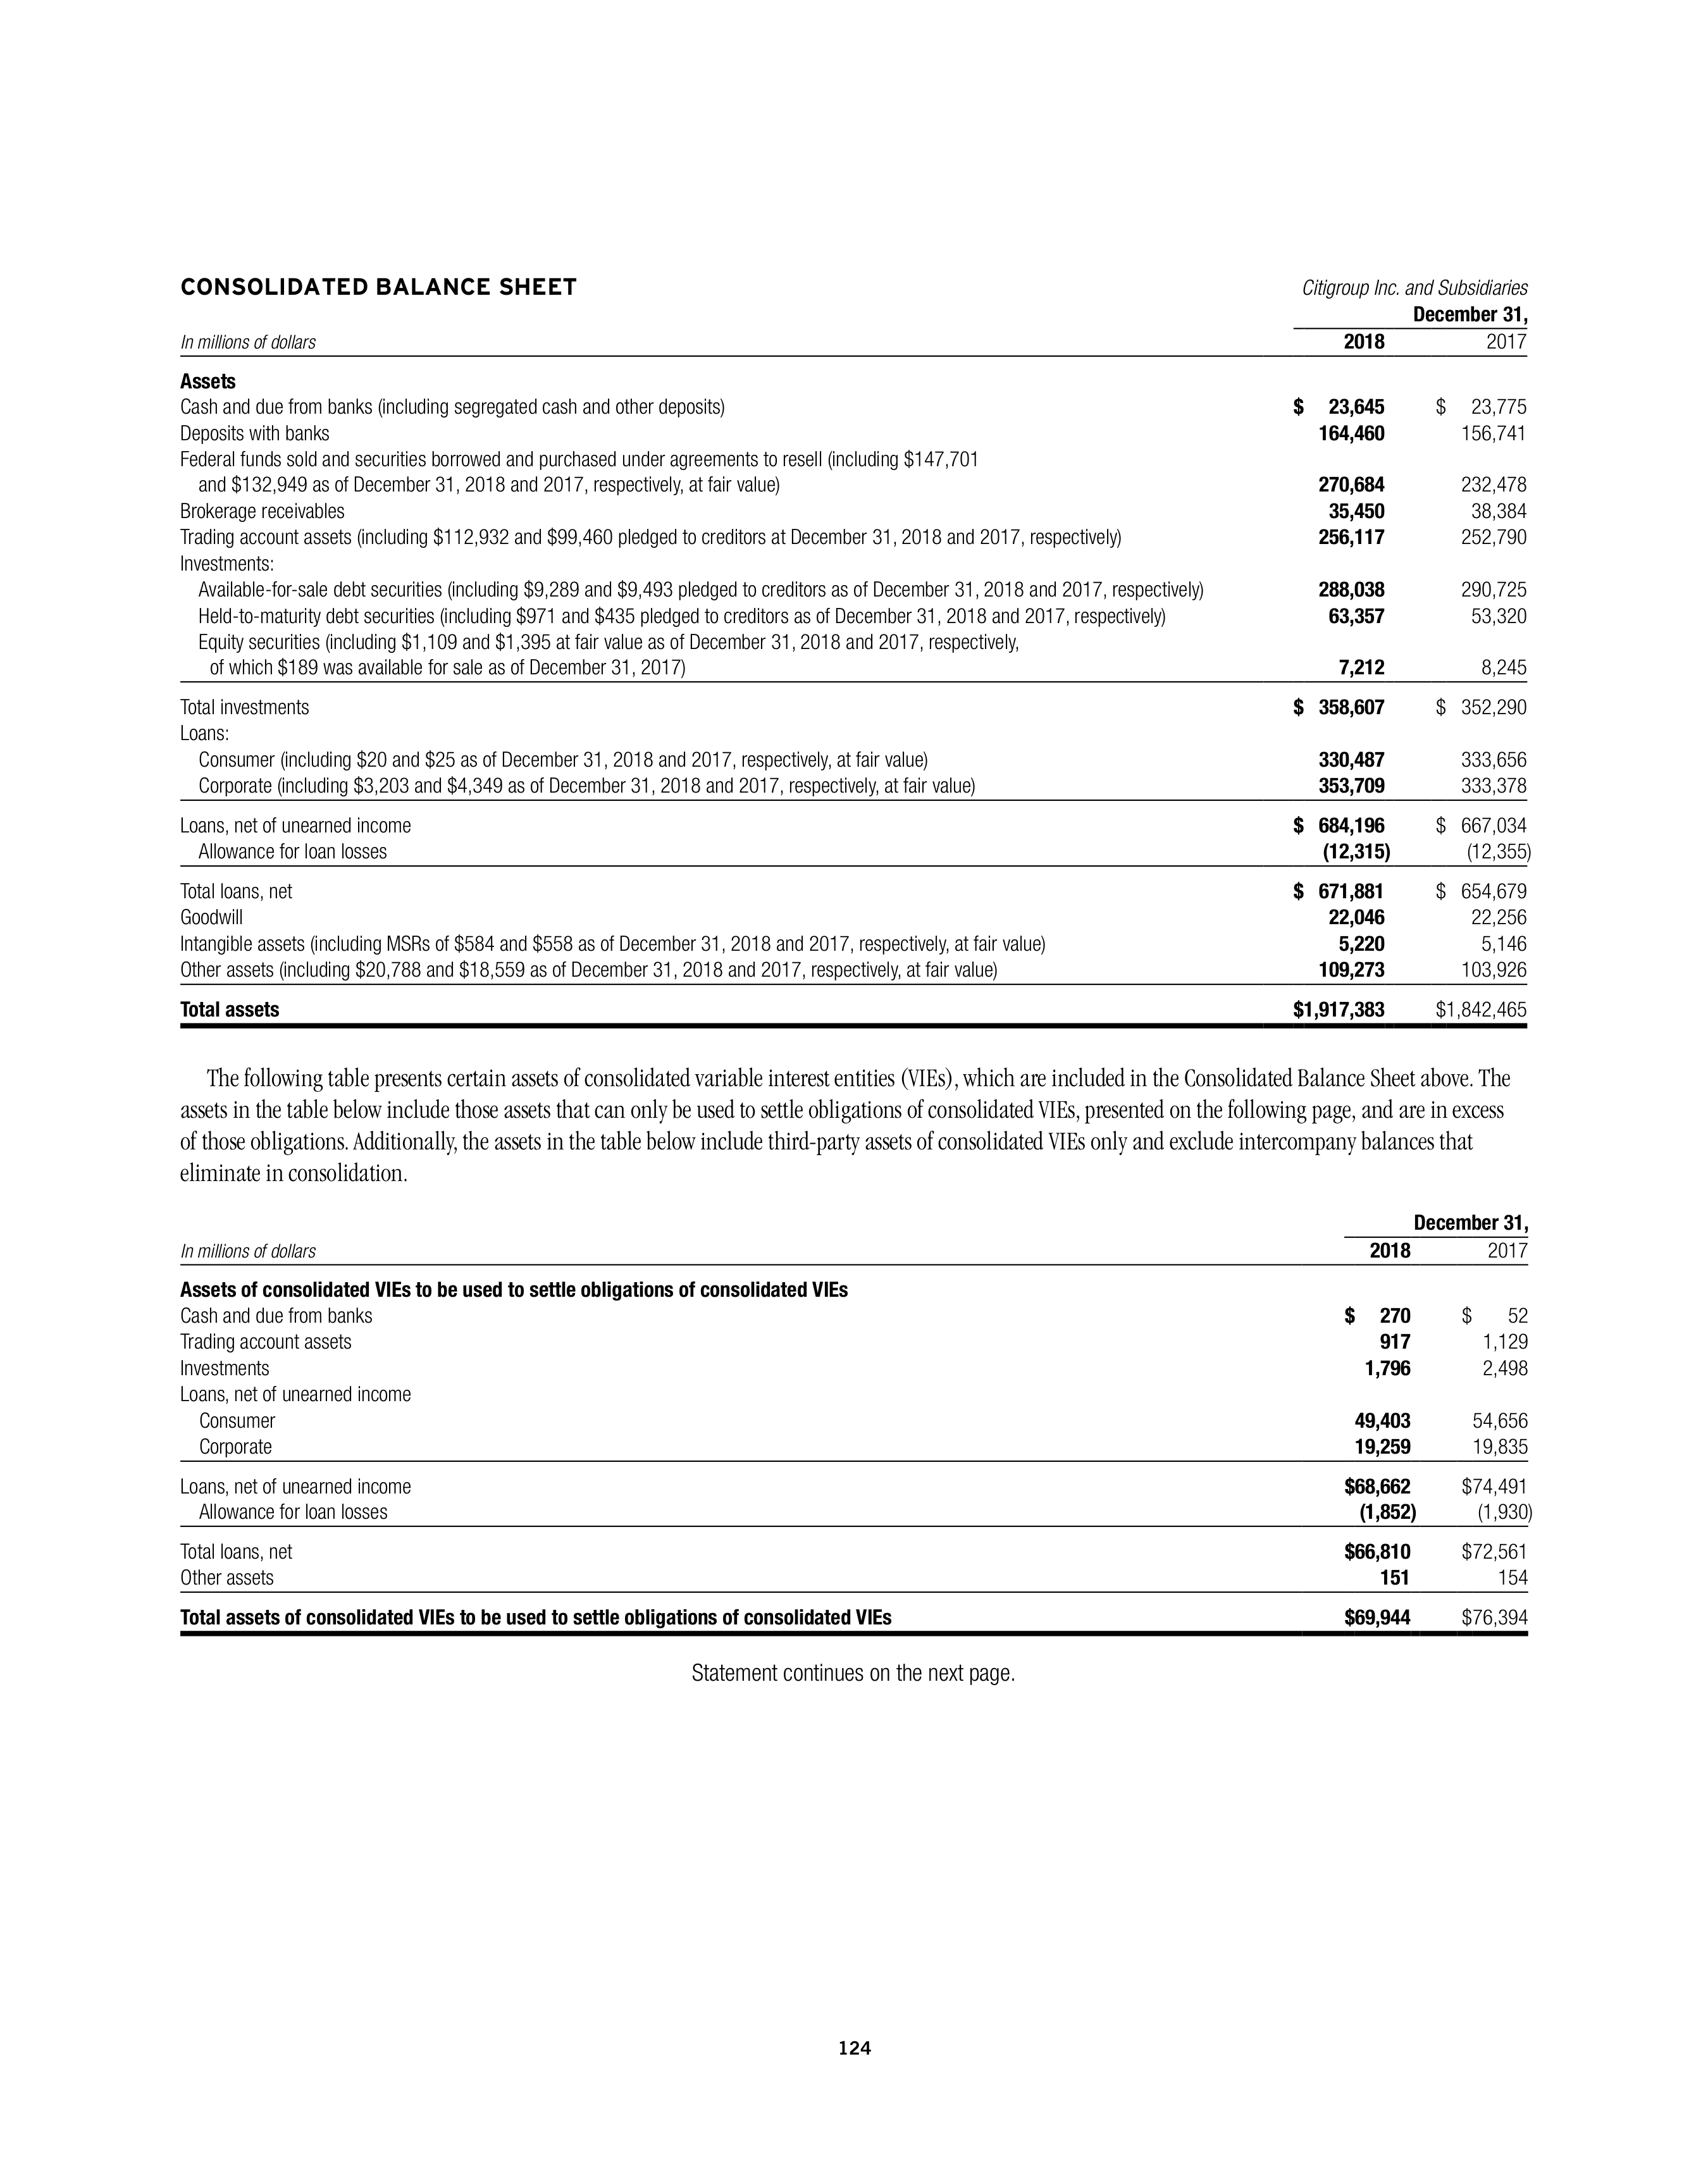balance_sheet: (154, 266, 1552, 1042), (168, 1207, 1557, 1651)
